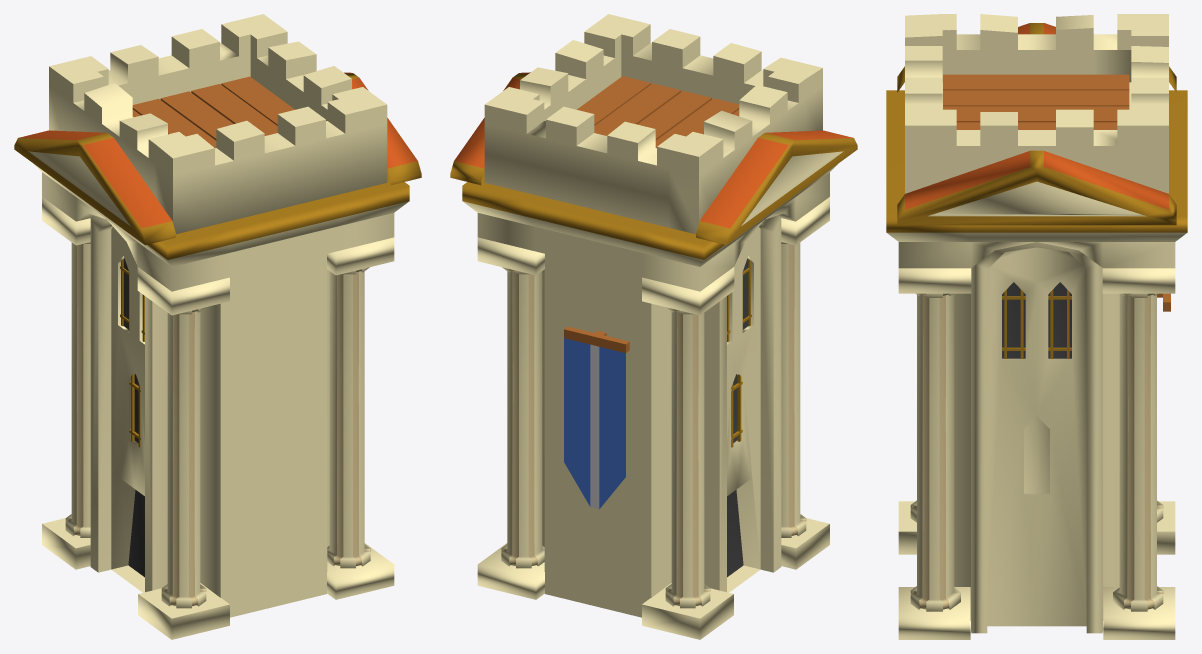
The model's file is GREEK_TOWER.fbx.
The picture shows the model from 3 angles, left to right: view 1: azimuth 30°, elevation 25°; view 2: azimuth 150°, elevation 25°; view 3: azimuth 270°, elevation 25°; orthographic projection. The views are drawn at different scales.
Parts seen in each view (by area): view 1: Cylinder, Cylinder.005, Cylinder.006, Cylinder.008; view 2: Cylinder, Cylinder.005, Cylinder.006, Cylinder.008, Cube.004; view 3: Cylinder, Cylinder.006, Cylinder.008, Cube.003.
Part boxes in pixels (box(x1,y1,x2,y2)): Cylinder: box(34, 14, 409, 639); Cylinder.005: box(65, 242, 206, 608); Cylinder.006: box(327, 267, 370, 568); Cylinder.008: box(14, 72, 421, 245); Cylinder: box(462, 14, 837, 639); Cylinder.005: box(665, 242, 806, 608); Cylinder.006: box(501, 267, 544, 568); Cylinder.008: box(450, 72, 857, 245); Cube.004: box(564, 326, 629, 509); Cylinder: box(886, 14, 1187, 639); Cylinder.006: box(910, 293, 1163, 611); Cylinder.008: box(897, 23, 1176, 225); Cube.003: box(1002, 289, 1071, 358).
Size of the model in its own units: 1721 by 2871 by 1521.
